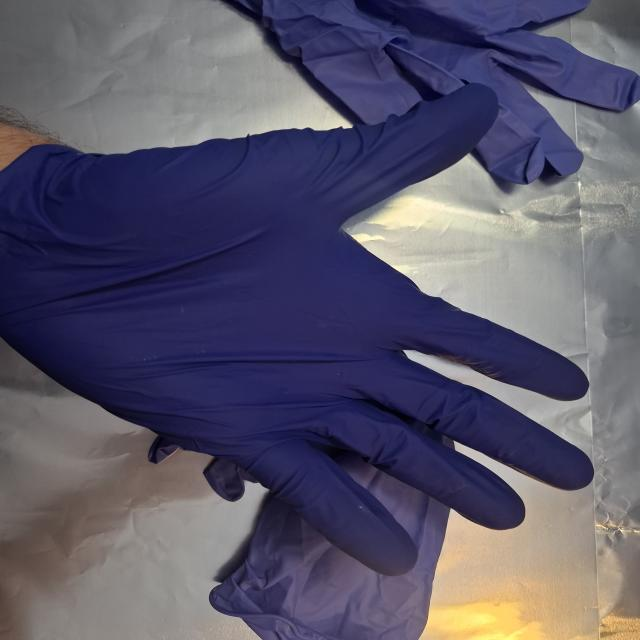glove_on: (0, 77, 598, 579)
